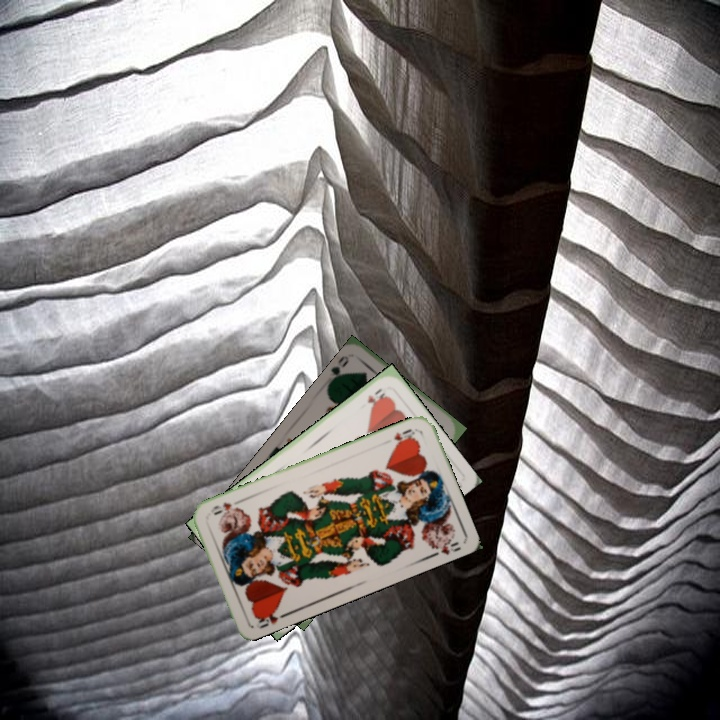GO: (325, 351, 352, 387)
HO: (251, 604, 290, 631), (390, 425, 419, 448), (363, 384, 388, 407)
